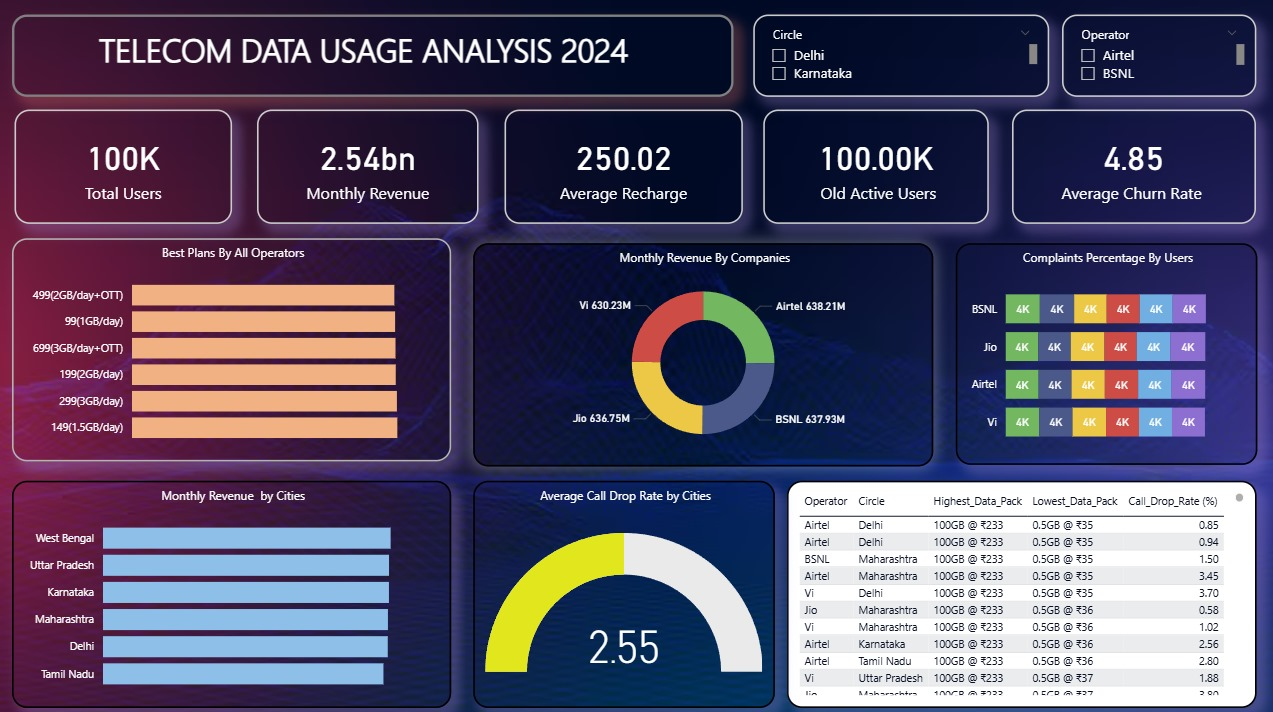

The page's visual inventory and layout, read from the dashboard file:
{"tool":"powerbi","page":{"name":"Page 1","canvas":[1280,720],"ordinal":0},"visuals":[{"type":"card","fields":{"Values":["kpi.total users"]},"box":[17.9,112.9,217.5,114.3],"z":0},{"type":"card","fields":{"Values":["kpi.Average Revenue per Customer"]},"box":[508,112.9,238.2,114.3],"z":1000},{"type":"slicer","fields":{"Values":["telecom_bigdata_100k.Circle"]},"box":[755.8,17.9,296,82.6],"z":2000},{"type":"card","fields":{"Values":["CountNonNull(telecom_bigdata_100k.Old_Users (thousands))"]},"box":[766.8,112.9,225.8,114.3],"z":3000},{"type":"card","fields":{"Values":["Avg(telecom_bigdata_100k.Churn Rate (%))"]},"box":[1014.6,112.9,243.7,114.3],"z":4000},{"type":"textbox","box":[15.1,17.9,721.4,82.6],"z":5000},{"type":"card","fields":{"Values":["kpi.monthly revenue"]},"box":[260.2,112.9,221.6,114.3],"z":6000},{"type":"clusteredBarChart","title":"Best Plans By All Operators","fields":{"Category":["telecom_bigdata_100k.Most_Popular_Plan"],"Y":["CountNonNull(telecom_bigdata_100k.Operator)"]},"box":[15.1,240.9,439.1,223],"z":7000},{"type":"donutChart","title":"Monthly Revenue By Companies","fields":{"Y":["Sum(telecom_bigdata_100k.Monthly_Revenue_₹_million)"],"Category":["telecom_bigdata_100k.Operator"]},"box":[476.3,246.4,459.8,223],"z":8000},{"type":"barChart","title":"Monthly Revenue  by Cities","fields":{"Y":["Sum(telecom_bigdata_100k.Monthly_Revenue_₹_million)"],"Category":["telecom_bigdata_100k.Circle"]},"box":[15.1,483.2,439.1,227.1],"z":9000},{"type":"tableEx","fields":{"Values":["telecom_bigdata_100k.Operator","telecom_bigdata_100k.Circle","telecom_bigdata_100k.Highest_Data_Pack","telecom_bigdata_100k.Lowest_Data_Pack","telecom_bigdata_100k.Call_Drop_Rate (%)"]},"box":[790.2,483.2,469.4,227.1],"z":10000},{"type":"gauge","title":"Average Call Drop Rate by Cities","fields":{"Y":["Avg(telecom_bigdata_100k.Call_Drop_Rate (%))"]},"box":[476.3,483.2,301.5,227.1],"z":11000},{"type":"barChart","title":"Complaints Percentage By Users ","fields":{"Category":["telecom_bigdata_100k.Operator"],"Y":["CountNonNull(telecom_bigdata_100k.Complaints_per_1000_users)"],"Series":["telecom_bigdata_100k.Circle"]},"box":[958.1,246.4,301.5,221.6],"z":12000},{"type":"slicer","fields":{"Values":["telecom_bigdata_100k.Operator"]},"box":[1065.5,17.9,194.1,82.6],"z":13000}]}

Visuals, with their boxes in screenshot pixels (x1, y1, x2, y2), scaled from the page's 1280x720 canvas onto the 1273x712 screenshot:
card - kpi.total users: rect(18, 112, 234, 225)
card - kpi.Average Revenue per Customer: rect(505, 112, 742, 225)
slicer - telecom_bigdata_100k.Circle: rect(752, 18, 1046, 99)
card - CountNonNull(telecom_bigdata_100k.Old_Users (thousands)): rect(763, 112, 987, 225)
card - Avg(telecom_bigdata_100k.Churn Rate (%)): rect(1009, 112, 1251, 225)
textbox: rect(15, 18, 732, 99)
card - kpi.monthly revenue: rect(259, 112, 479, 225)
"Best Plans By All Operators" clusteredBarChart: rect(15, 238, 452, 459)
"Monthly Revenue By Companies" donutChart: rect(474, 244, 931, 464)
"Monthly Revenue  by Cities" barChart: rect(15, 478, 452, 702)
tableEx - telecom_bigdata_100k.Operator x telecom_bigdata_100k.Circle: rect(786, 478, 1253, 702)
"Average Call Drop Rate by Cities" gauge: rect(474, 478, 774, 702)
"Complaints Percentage By Users " barChart: rect(953, 244, 1253, 463)
slicer - telecom_bigdata_100k.Operator: rect(1060, 18, 1253, 99)
